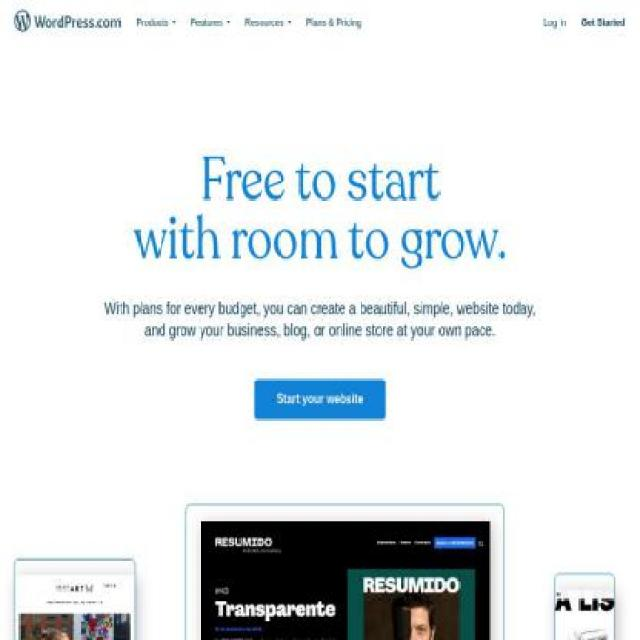button: (253, 378, 387, 420), (0, 0, 129, 38), (296, 0, 369, 38), (573, 0, 639, 38), (237, 0, 300, 38), (127, 0, 184, 38), (181, 0, 238, 38), (535, 0, 575, 38), (621, 22, 639, 47)
